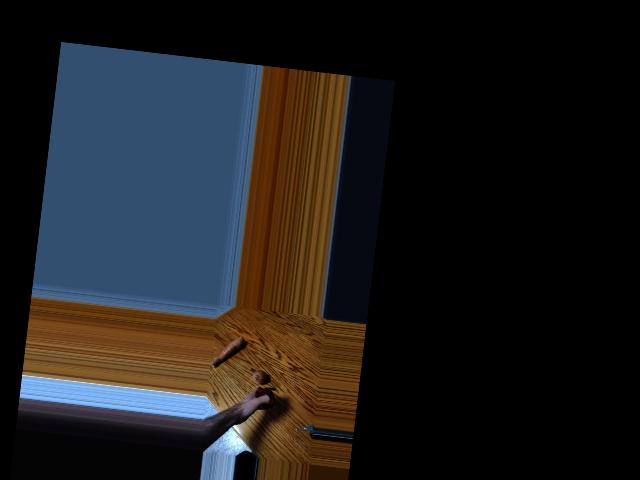onion: (252, 385, 274, 408)
